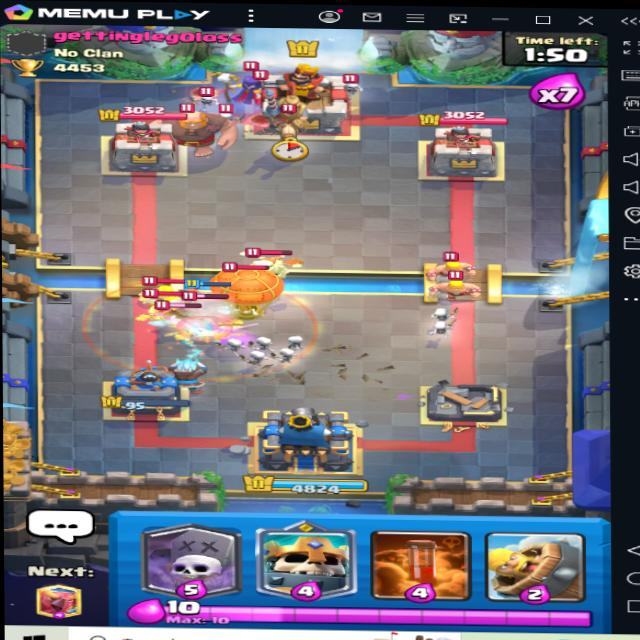balloon: (214, 255, 286, 316)
barbarian: (137, 284, 193, 311), (432, 270, 479, 302), (151, 298, 199, 327), (425, 250, 474, 274), (142, 276, 190, 300)
giant: (147, 101, 243, 162)
prince: (264, 87, 316, 143)
skeleton: (190, 84, 219, 104), (211, 105, 242, 123), (342, 73, 366, 94)
skeleton-dragon: (242, 253, 305, 287)
witch: (228, 65, 283, 107)
